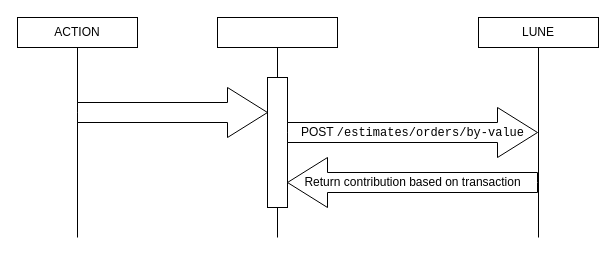
Some shapes in this 616 by 256 pixel diagram are drawn without their labels. Each missing label, with the centre of its shape:
"Calculate contribution" belongs at (x=172, y=112).
"INTERFACE" belongs at (x=277, y=32).
